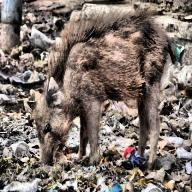boar: (22, 19, 176, 167)
